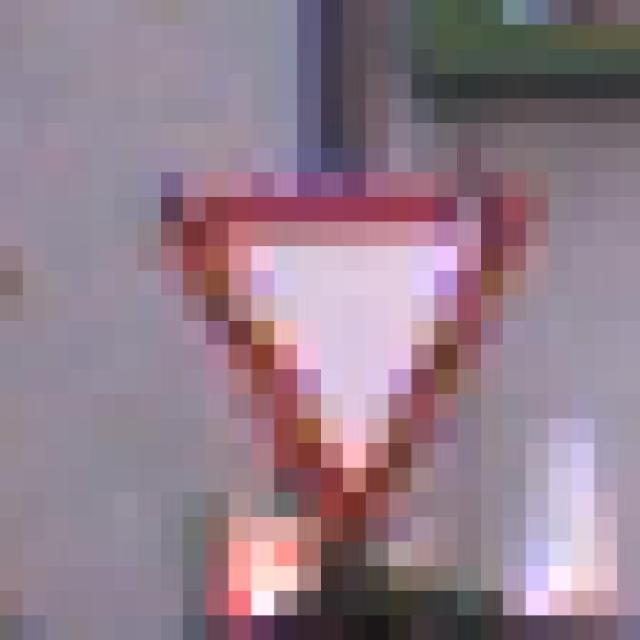Give Way: (137, 148, 594, 566)
